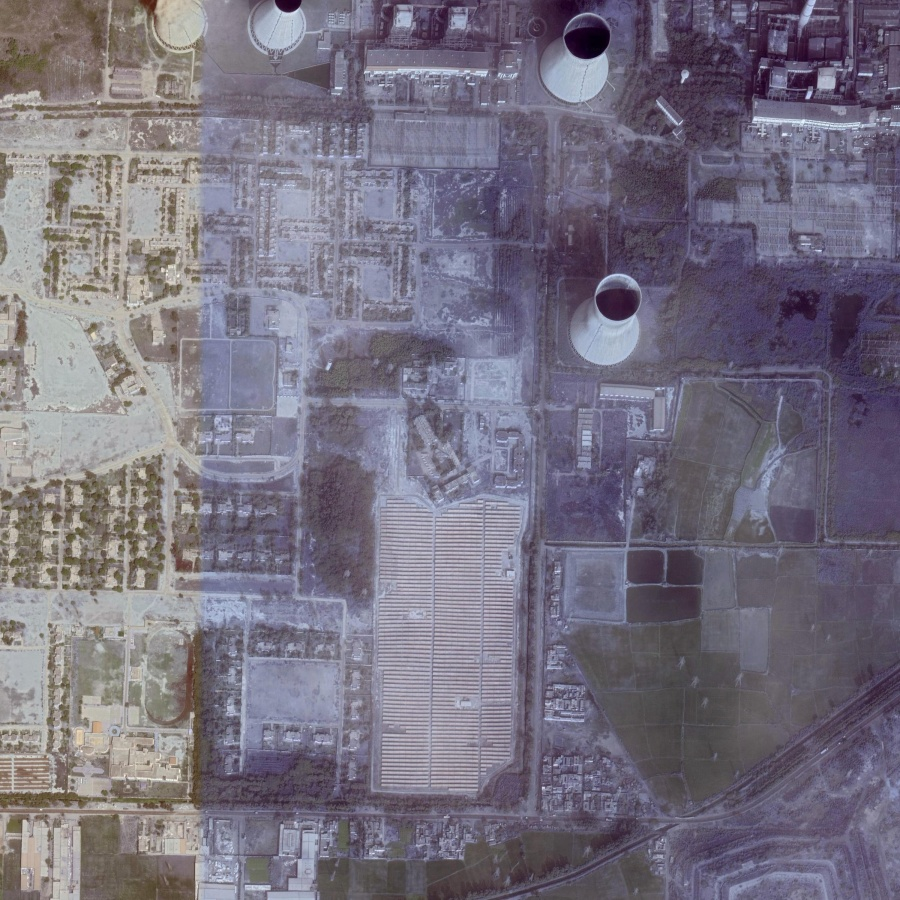PowerPlant: (550, 261, 794, 535)
